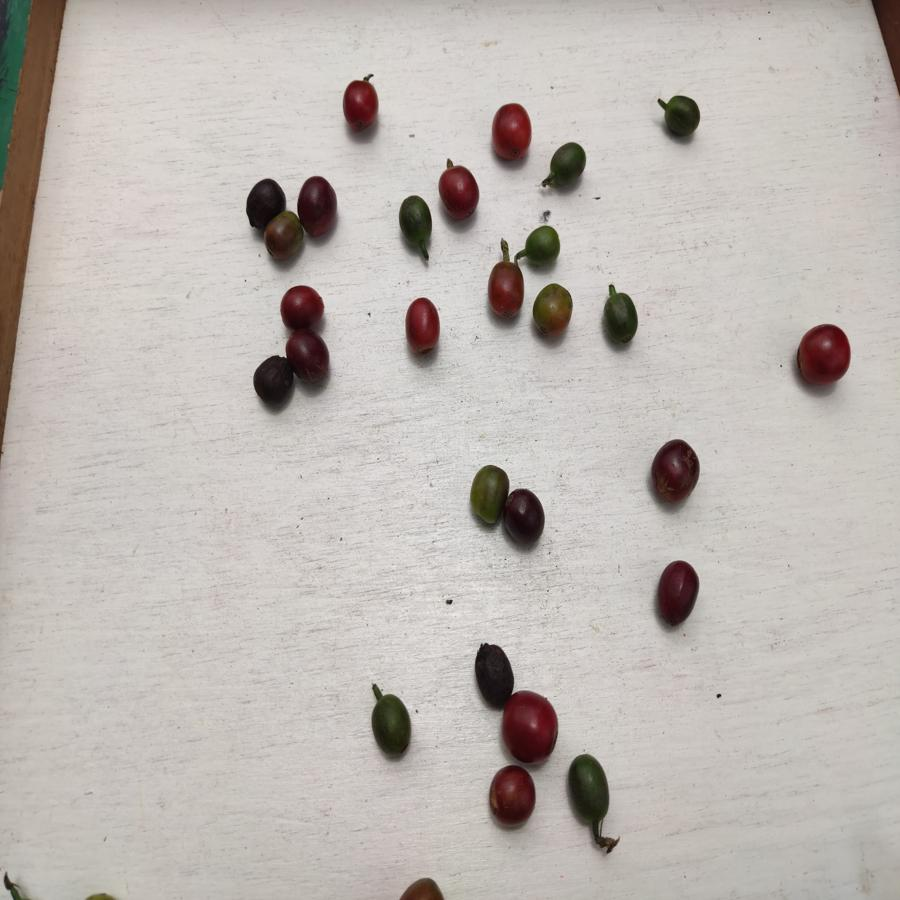Inmaduro: (567, 754, 617, 827), (369, 693, 412, 760), (600, 290, 642, 347), (396, 194, 433, 246), (660, 95, 701, 139), (548, 140, 587, 186), (525, 224, 564, 266)
Maduro: (504, 690, 558, 764), (797, 323, 851, 387), (490, 104, 533, 163), (485, 261, 527, 321), (439, 166, 483, 220), (405, 298, 442, 356), (280, 286, 327, 326), (344, 81, 379, 133)
Pinton: (469, 464, 505, 527), (531, 282, 573, 336), (264, 213, 300, 258)
Sobremaduro: (649, 436, 704, 505), (654, 559, 702, 633), (485, 767, 538, 829), (287, 331, 337, 383), (299, 174, 339, 237), (504, 488, 547, 545), (472, 641, 514, 697), (252, 355, 294, 403), (242, 178, 291, 213)
